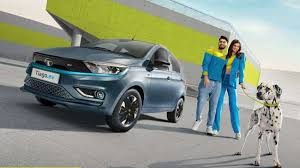Tiago: (18, 32, 189, 133)
